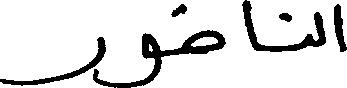X: (0, 32, 106, 87), (185, 1, 222, 58), (140, 28, 160, 87), (244, 0, 257, 55), (334, 0, 346, 56), (316, 7, 324, 51), (306, 29, 312, 51)
